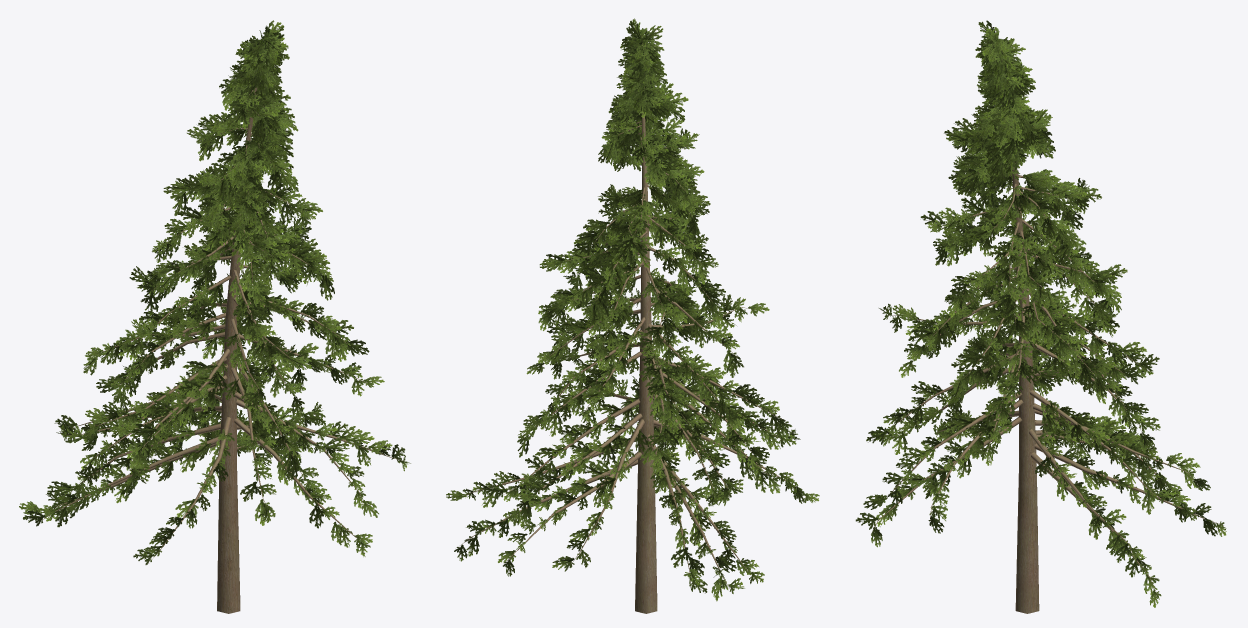
The model's file is tree_LOD1.glb.
3 views of the same model, side by side, from view 1: azimuth 30°, elevation 25°; view 2: azimuth 150°, elevation 25°; view 3: azimuth 270°, elevation 25° (orthographic). The views are drawn at different scales.
Visible parts, largest first — view 1: Leaves_LOD1, Branches_LOD1; view 2: Leaves_LOD1, Branches_LOD1; view 3: Leaves_LOD1, Branches_LOD1.
Part boxes in pixels (box(x1,y1,x2,y2)): Leaves_LOD1: box(19, 20, 410, 564); Branches_LOD1: box(39, 87, 404, 613); Leaves_LOD1: box(446, 18, 819, 601); Branches_LOD1: box(460, 43, 805, 613); Leaves_LOD1: box(855, 20, 1226, 607); Branches_LOD1: box(871, 128, 1222, 613).
Size of the model in its own units: 29.11 by 51.51 by 29.56.
Materials: 2 (2 with a texture image).
